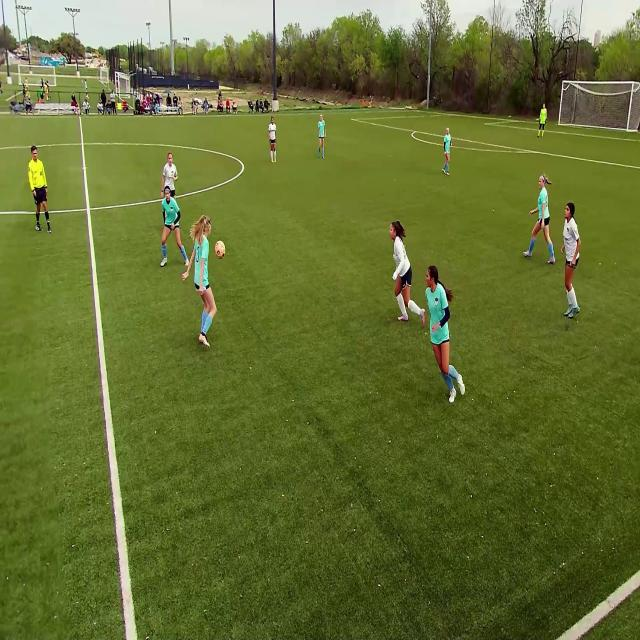ball: (214, 240, 227, 262)
team1: (426, 260, 468, 409), (190, 228, 220, 349), (528, 173, 560, 267), (161, 188, 189, 272), (442, 127, 453, 178), (316, 113, 326, 159)
team2: (387, 223, 424, 329), (561, 202, 587, 320), (164, 152, 178, 199), (268, 117, 278, 163)
